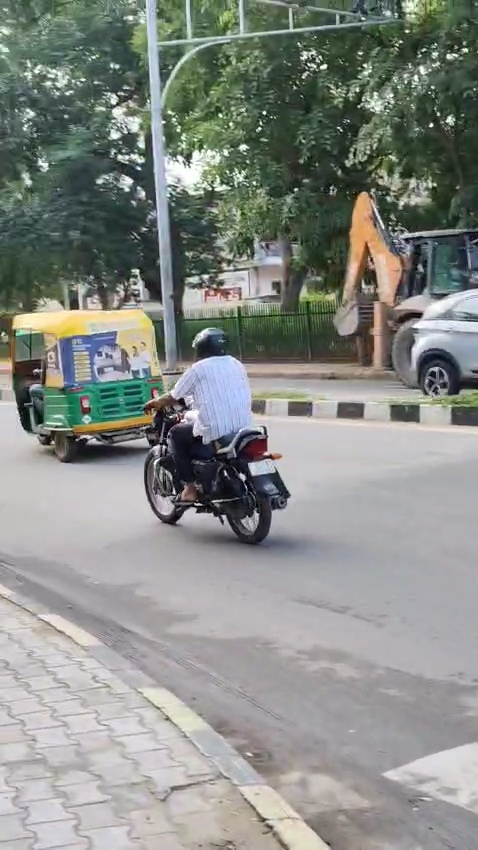BikeWithRider: (135, 321, 296, 550)
Helmet: (186, 323, 235, 365)
